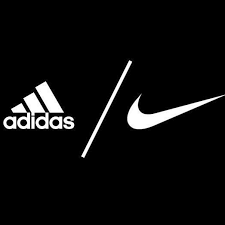adidas: (2, 81, 76, 129)
nike: (126, 91, 224, 129)
